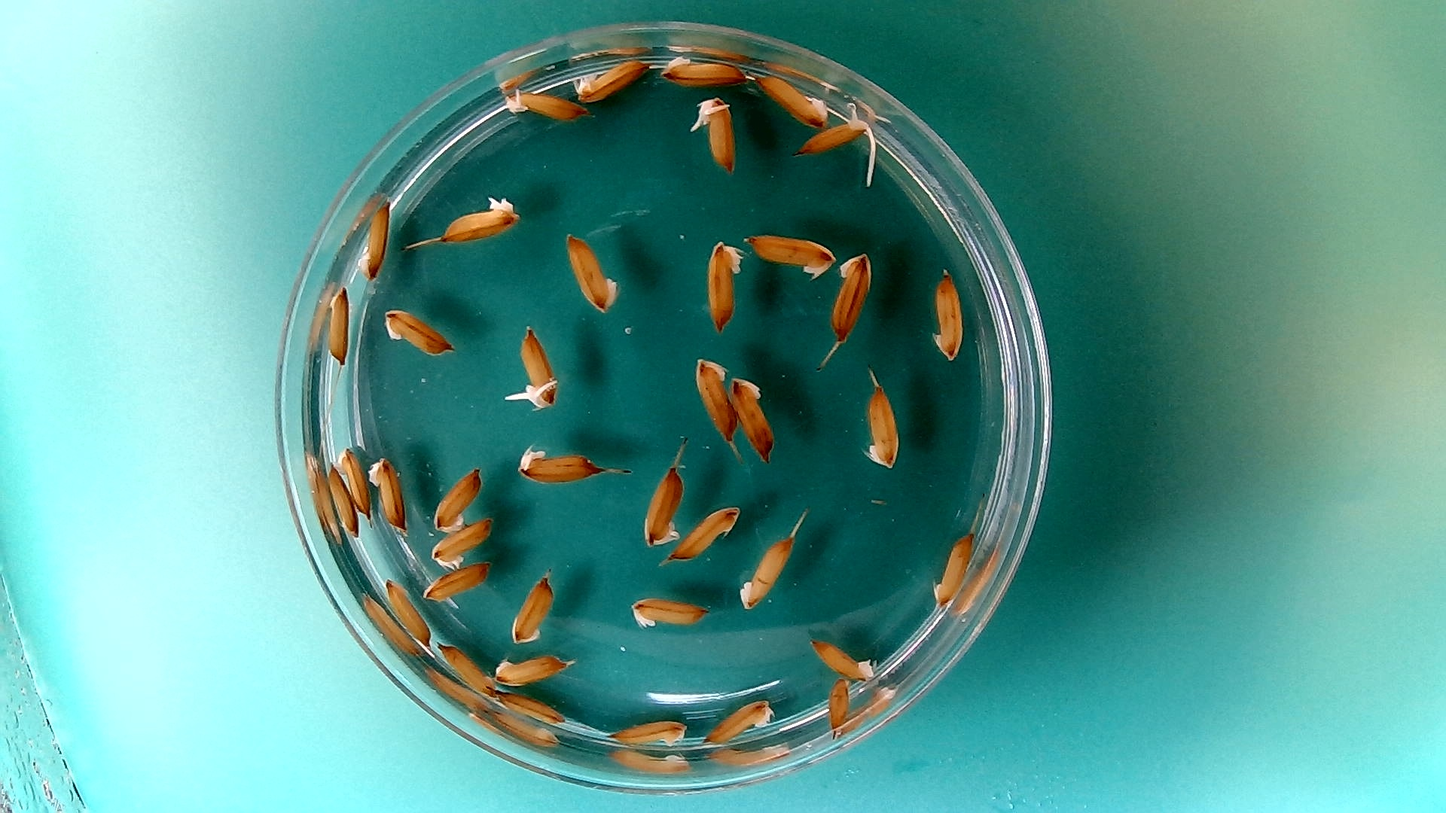no: (561, 227, 622, 313), (741, 227, 838, 280), (737, 531, 798, 611), (825, 249, 875, 346), (691, 352, 740, 450), (727, 373, 779, 463), (752, 69, 832, 126), (666, 502, 741, 562), (701, 236, 746, 336), (511, 440, 605, 486), (699, 695, 776, 748), (378, 304, 454, 357), (859, 378, 902, 471), (507, 568, 557, 647), (427, 513, 496, 570), (435, 638, 499, 699), (428, 463, 484, 532), (572, 53, 650, 102), (422, 558, 494, 609), (929, 528, 975, 607), (928, 268, 966, 363), (491, 647, 576, 689), (367, 452, 410, 534), (383, 576, 432, 647), (805, 633, 877, 681), (657, 50, 750, 87), (330, 443, 374, 518), (626, 592, 711, 630), (605, 714, 688, 752), (356, 198, 393, 280), (323, 283, 354, 369), (496, 689, 570, 725), (325, 461, 358, 538), (823, 674, 854, 738)
yes: (506, 323, 562, 413), (437, 190, 522, 244), (638, 460, 687, 548), (797, 109, 881, 160), (690, 93, 740, 176), (498, 83, 587, 123)
